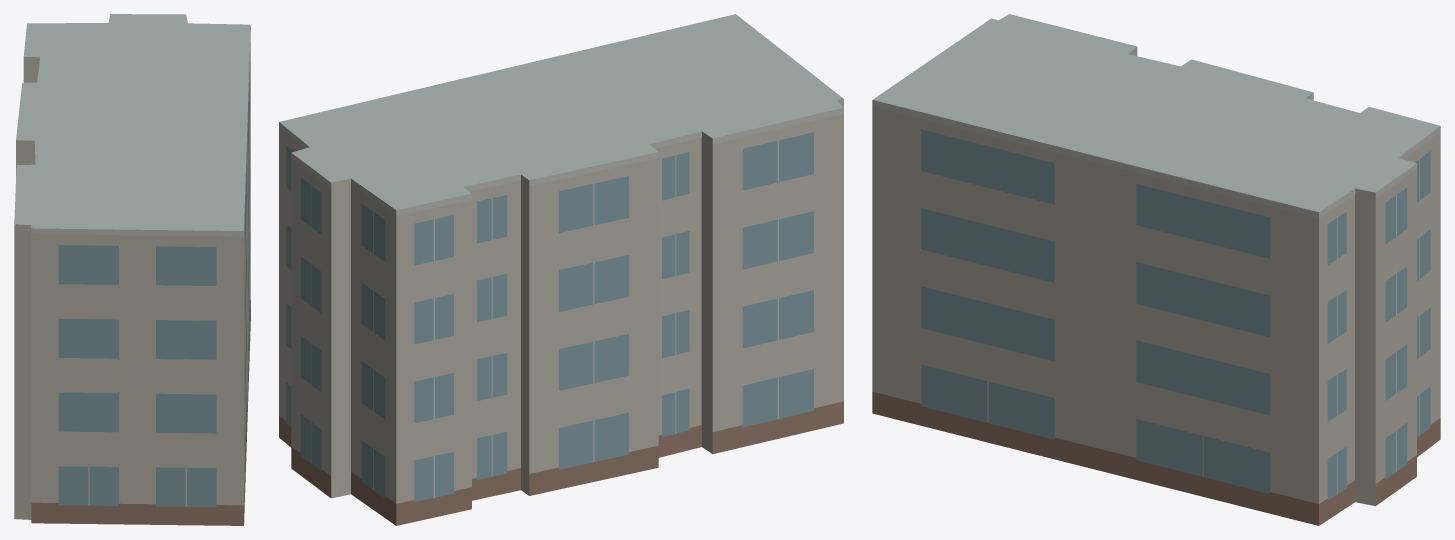
File: survey-upis-32602540.glb
The picture shows the model from 3 angles, left to right: view 1: azimuth 30°, elevation 25°; view 2: azimuth 150°, elevation 25°; view 3: azimuth 270°, elevation 25°; orthographic projection. The views are drawn at different scales.
Visible parts, largest first — view 1: survey-upis-32602540.tmp; view 2: survey-upis-32602540.tmp; view 3: survey-upis-32602540.tmp.
Part boxes in pixels (<box>): survey-upis-32602540.tmp: <box>14,14,250,525</box>; survey-upis-32602540.tmp: <box>279,14,843,525</box>; survey-upis-32602540.tmp: <box>872,14,1440,525</box>.
Size of the model in its own units: 17.36 by 12.8 by 21.02.
